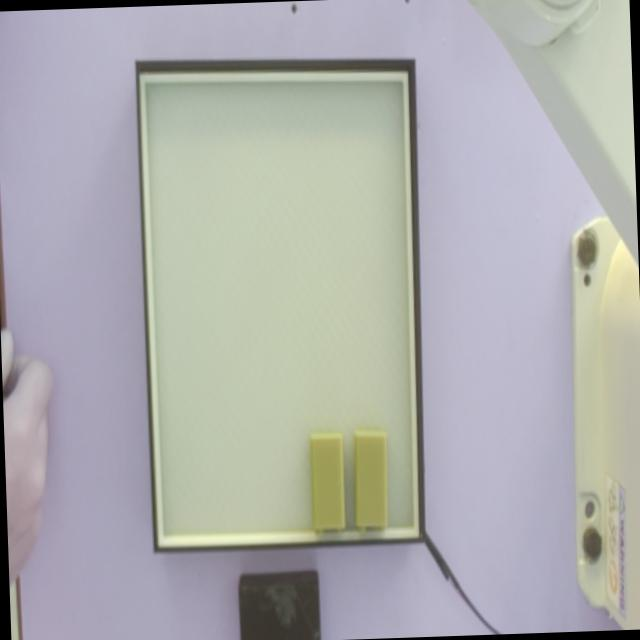bateria: (308, 432, 344, 534), (352, 432, 388, 534)
mesa: (135, 58, 426, 551)
